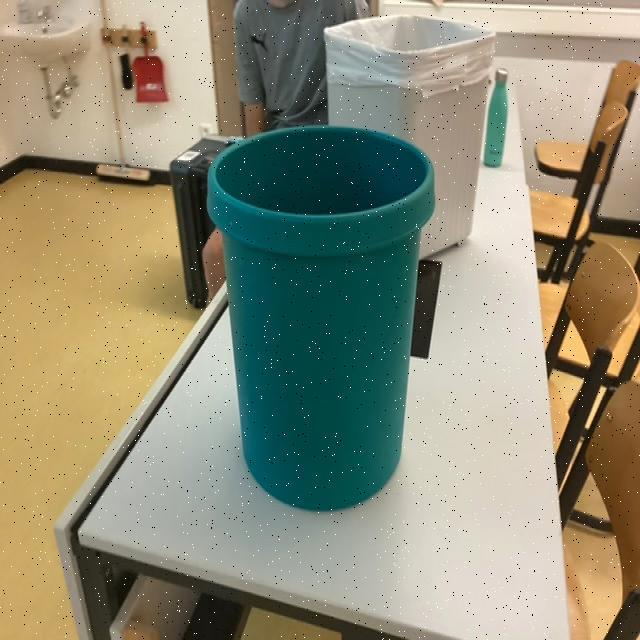garbage container: (198, 108, 439, 523), (313, 15, 494, 244)
